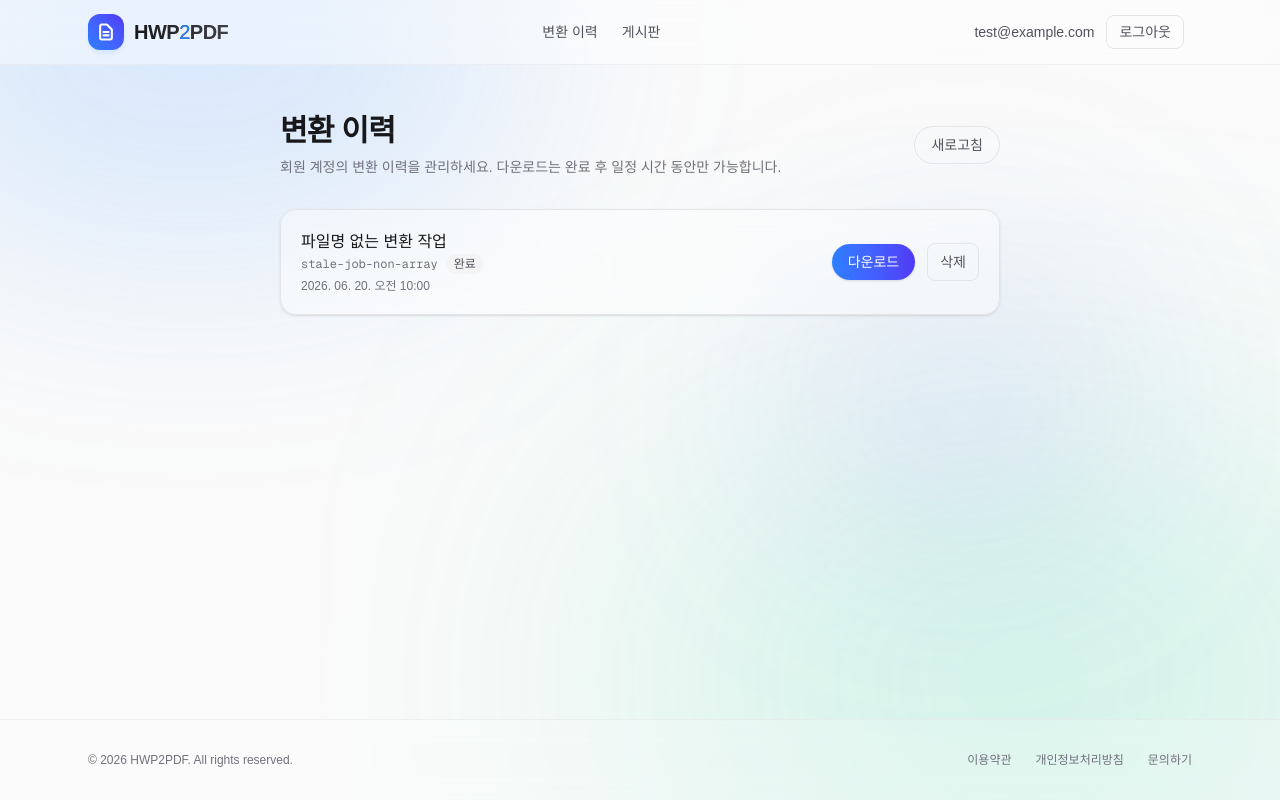
Test case: HistoryPage › keeps stale list visible with warning when refresh returns 200 with non-array body
This screenshot has width=1280, height=800.
Check: the text "stale-job-non-array" is shown, box left=301, top=256, right=438, bottom=272
Click refresh button
Click the button with test id "history-refresh-button" at (957, 145), box left=914, top=126, right=1000, bottom=164
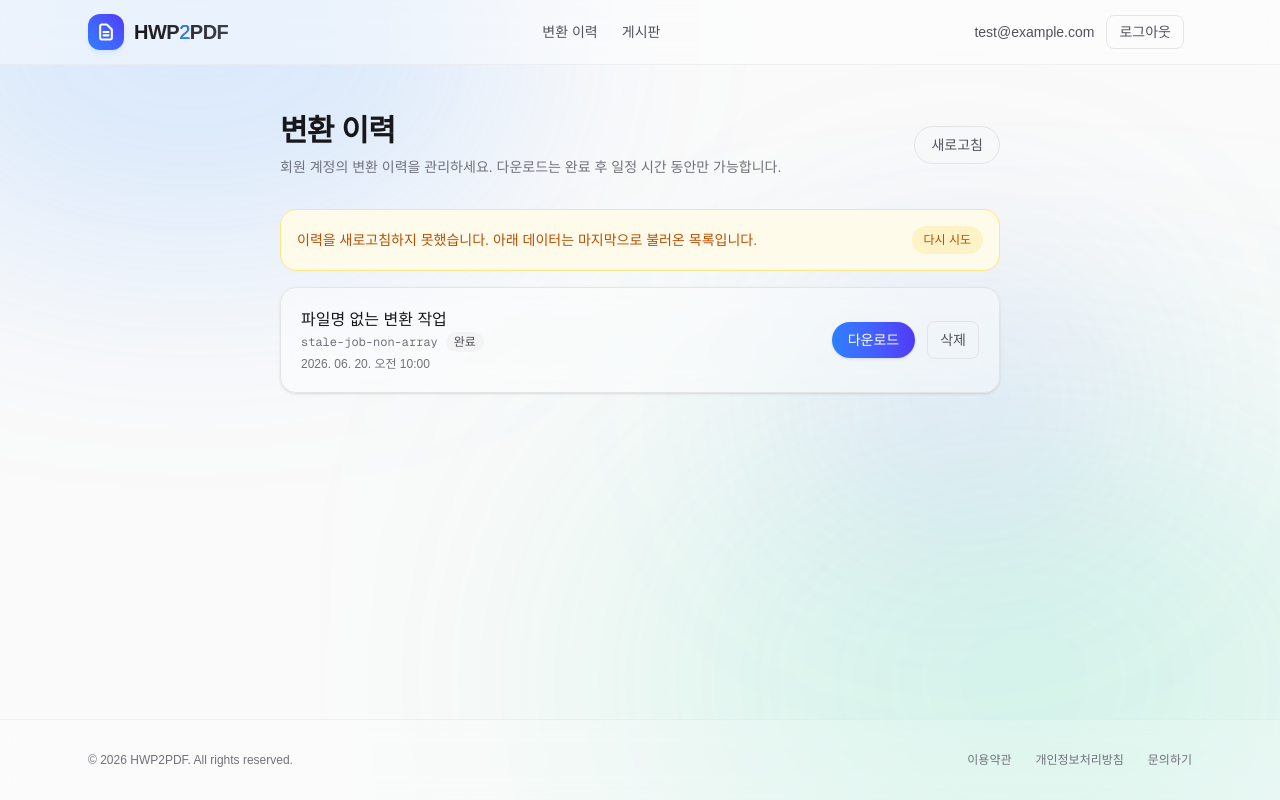
Check: the text "stale-job-non-array" is shown, box left=301, top=334, right=438, bottom=350
Check: the message "이력을 새로고침하지 못했습니다. 아래 데이터는 마지막으로 불러온 목록입니다. 다시 시도" is shown, box left=280, top=209, right=1000, bottom=271
